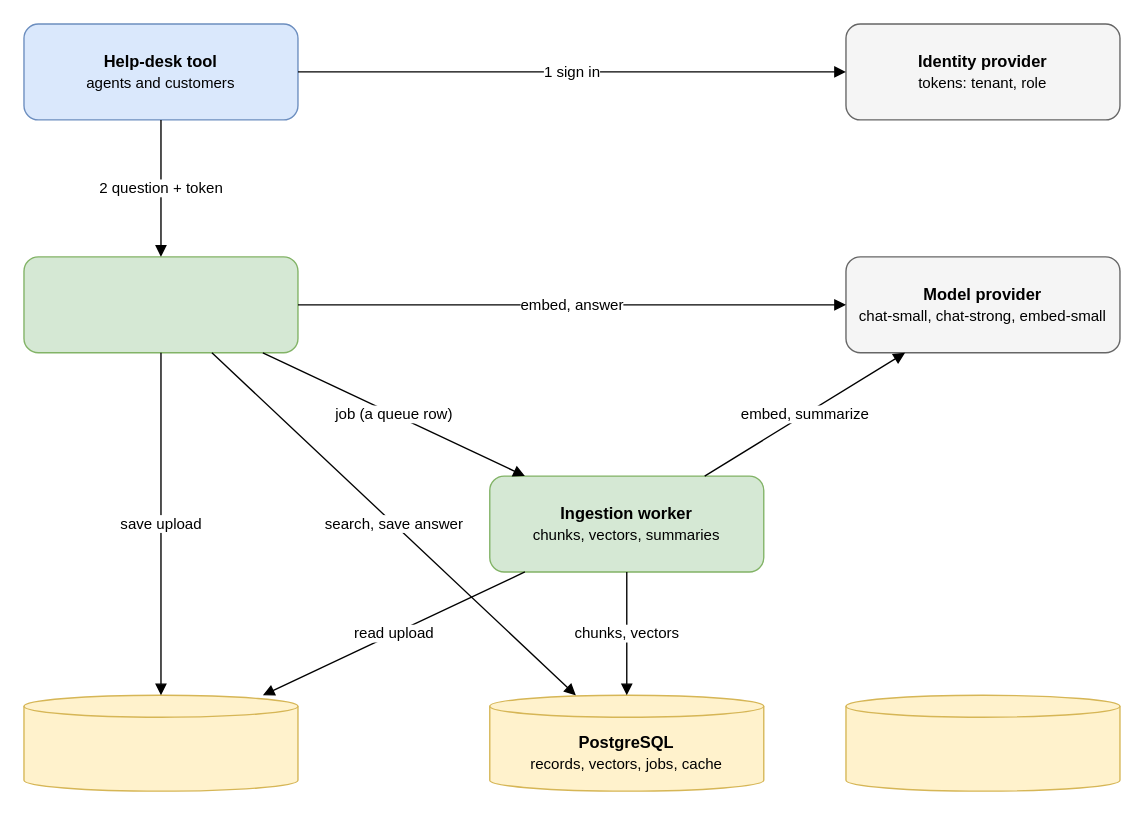
This 1144x815 diagram has some shape labels left out. Each missing label, with the centre of its shape:
Assistant API answers questions: point 160,304
File storage original files: point 160,742
Logs and alerts every part sends logs: point 982,742
